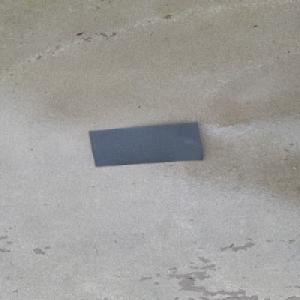PaintChip: (88, 121, 204, 168)
